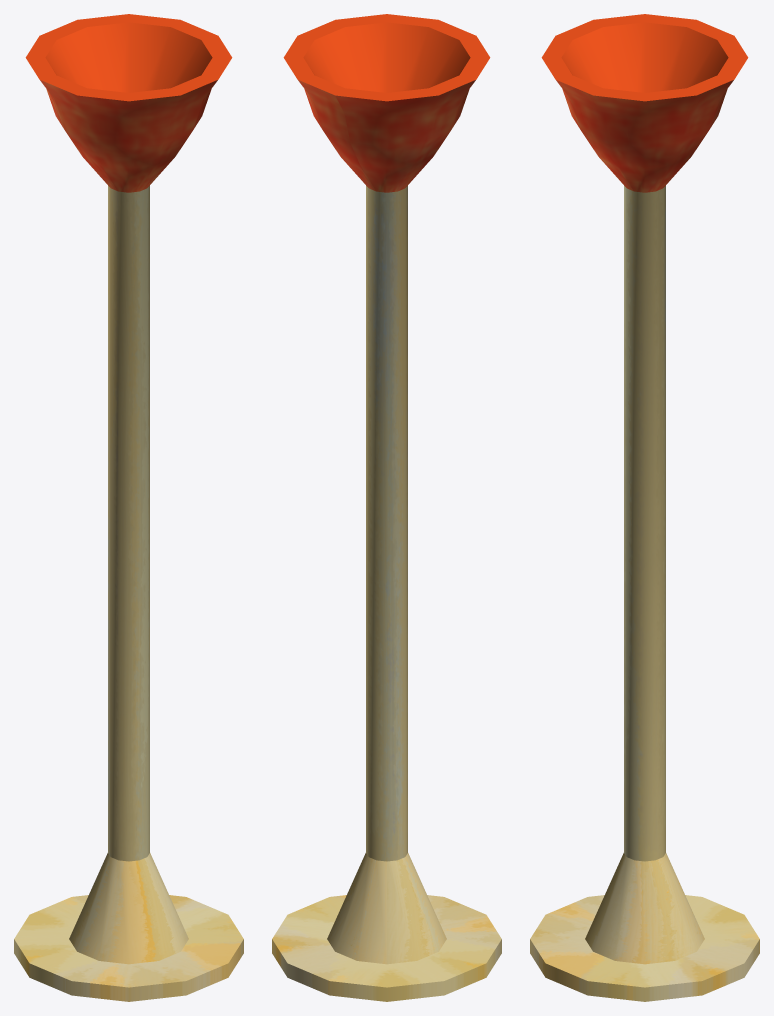
The model's file is lampfinished.FBX.
3 views of the same model, side by side, from view 1: azimuth 30°, elevation 25°; view 2: azimuth 150°, elevation 25°; view 3: azimuth 270°, elevation 25° (orthographic).
Parts seen in each view (by area): view 1: Cylinder001; view 2: Cylinder001; view 3: Cylinder001.
Boxes of the visible parts, x1=… form: Cylinder001: x1=14, y1=14, x2=243, y2=1001; Cylinder001: x1=272, y1=14, x2=501, y2=1001; Cylinder001: x1=530, y1=14, x2=759, y2=1001.
Size of the model in its own units: 21.73 by 93.47 by 21.73.
